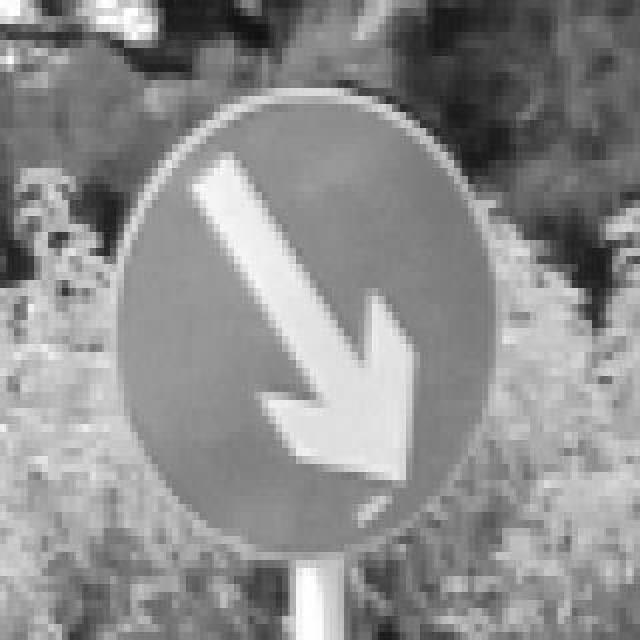keep right: (96, 72, 496, 552)
